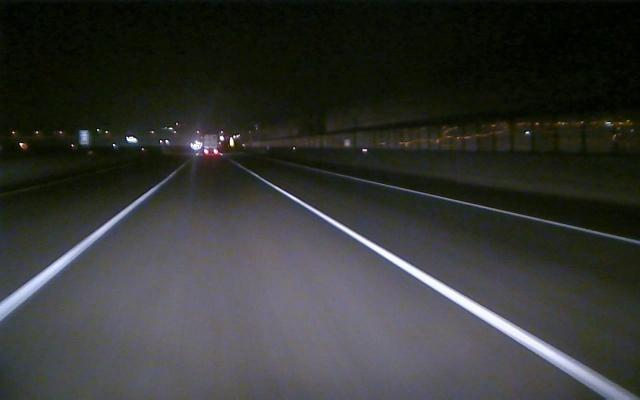lane: (260, 176, 630, 395), (3, 181, 165, 319), (344, 174, 640, 245)
